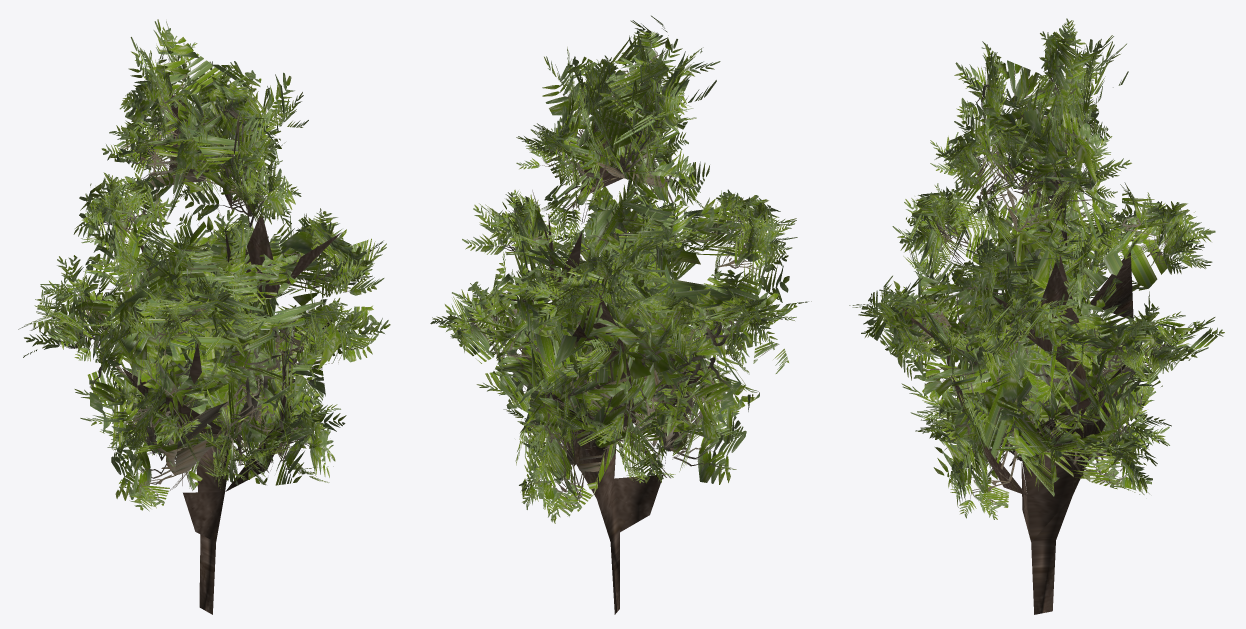
Rendered from tree_lp2.glb.
The picture shows the model from 3 angles, left to right: view 1: azimuth 30°, elevation 25°; view 2: azimuth 150°, elevation 25°; view 3: azimuth 270°, elevation 25°; orthographic projection. The views are drawn at different scales.
Size of the model in its own units: 4.47 by 7.21 by 4.35.
2 materials, 2 textured.
